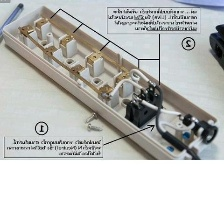three_eye_plug: (1, 3, 221, 167)
